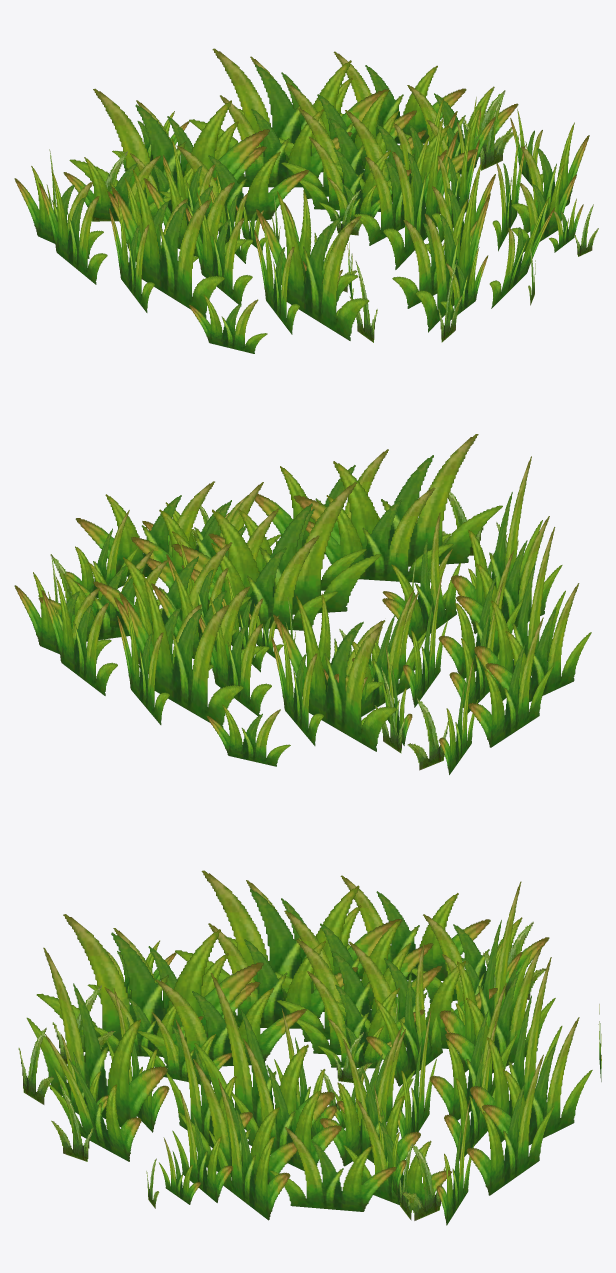
Rendered from obj_macoprgr07-03.glb.
3 views of the same model, one above another, from view 1: azimuth 30°, elevation 25°; view 2: azimuth 150°, elevation 25°; view 3: azimuth 270°, elevation 25° (orthographic). The views are drawn at different scales.
Parts seen in each view (by area): view 1: part_0; view 2: part_0; view 3: part_0.
Boxes of the visible parts, left/top/right/bottom form: part_0: left=14, top=48, right=598, bottom=353; part_0: left=14, top=434, right=591, bottom=774; part_0: left=18, top=870, right=601, bottom=1225.
Size of the model in its own units: 2.44 by 0.8621 by 2.34.
Materials: 2 (2 with a texture image).
